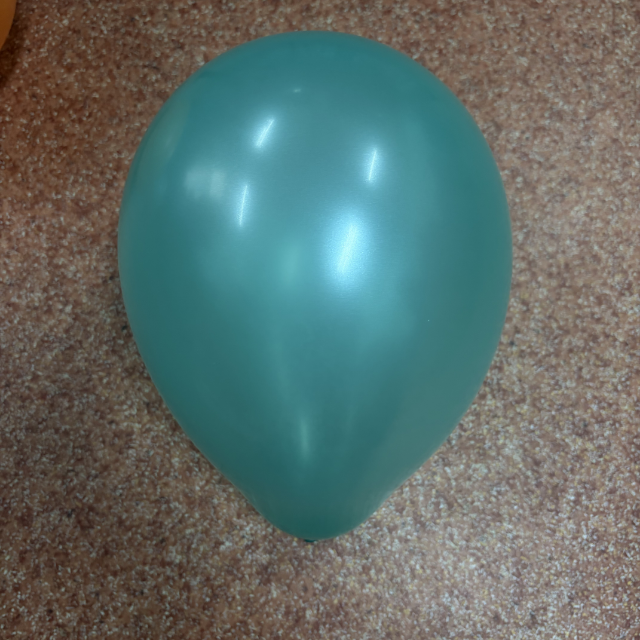balloon: (116, 30, 514, 544)
